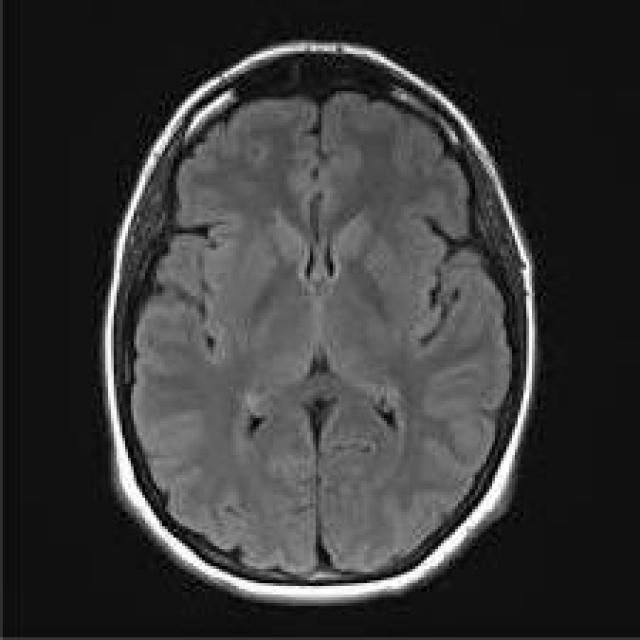notumor: (102, 43, 532, 600)
